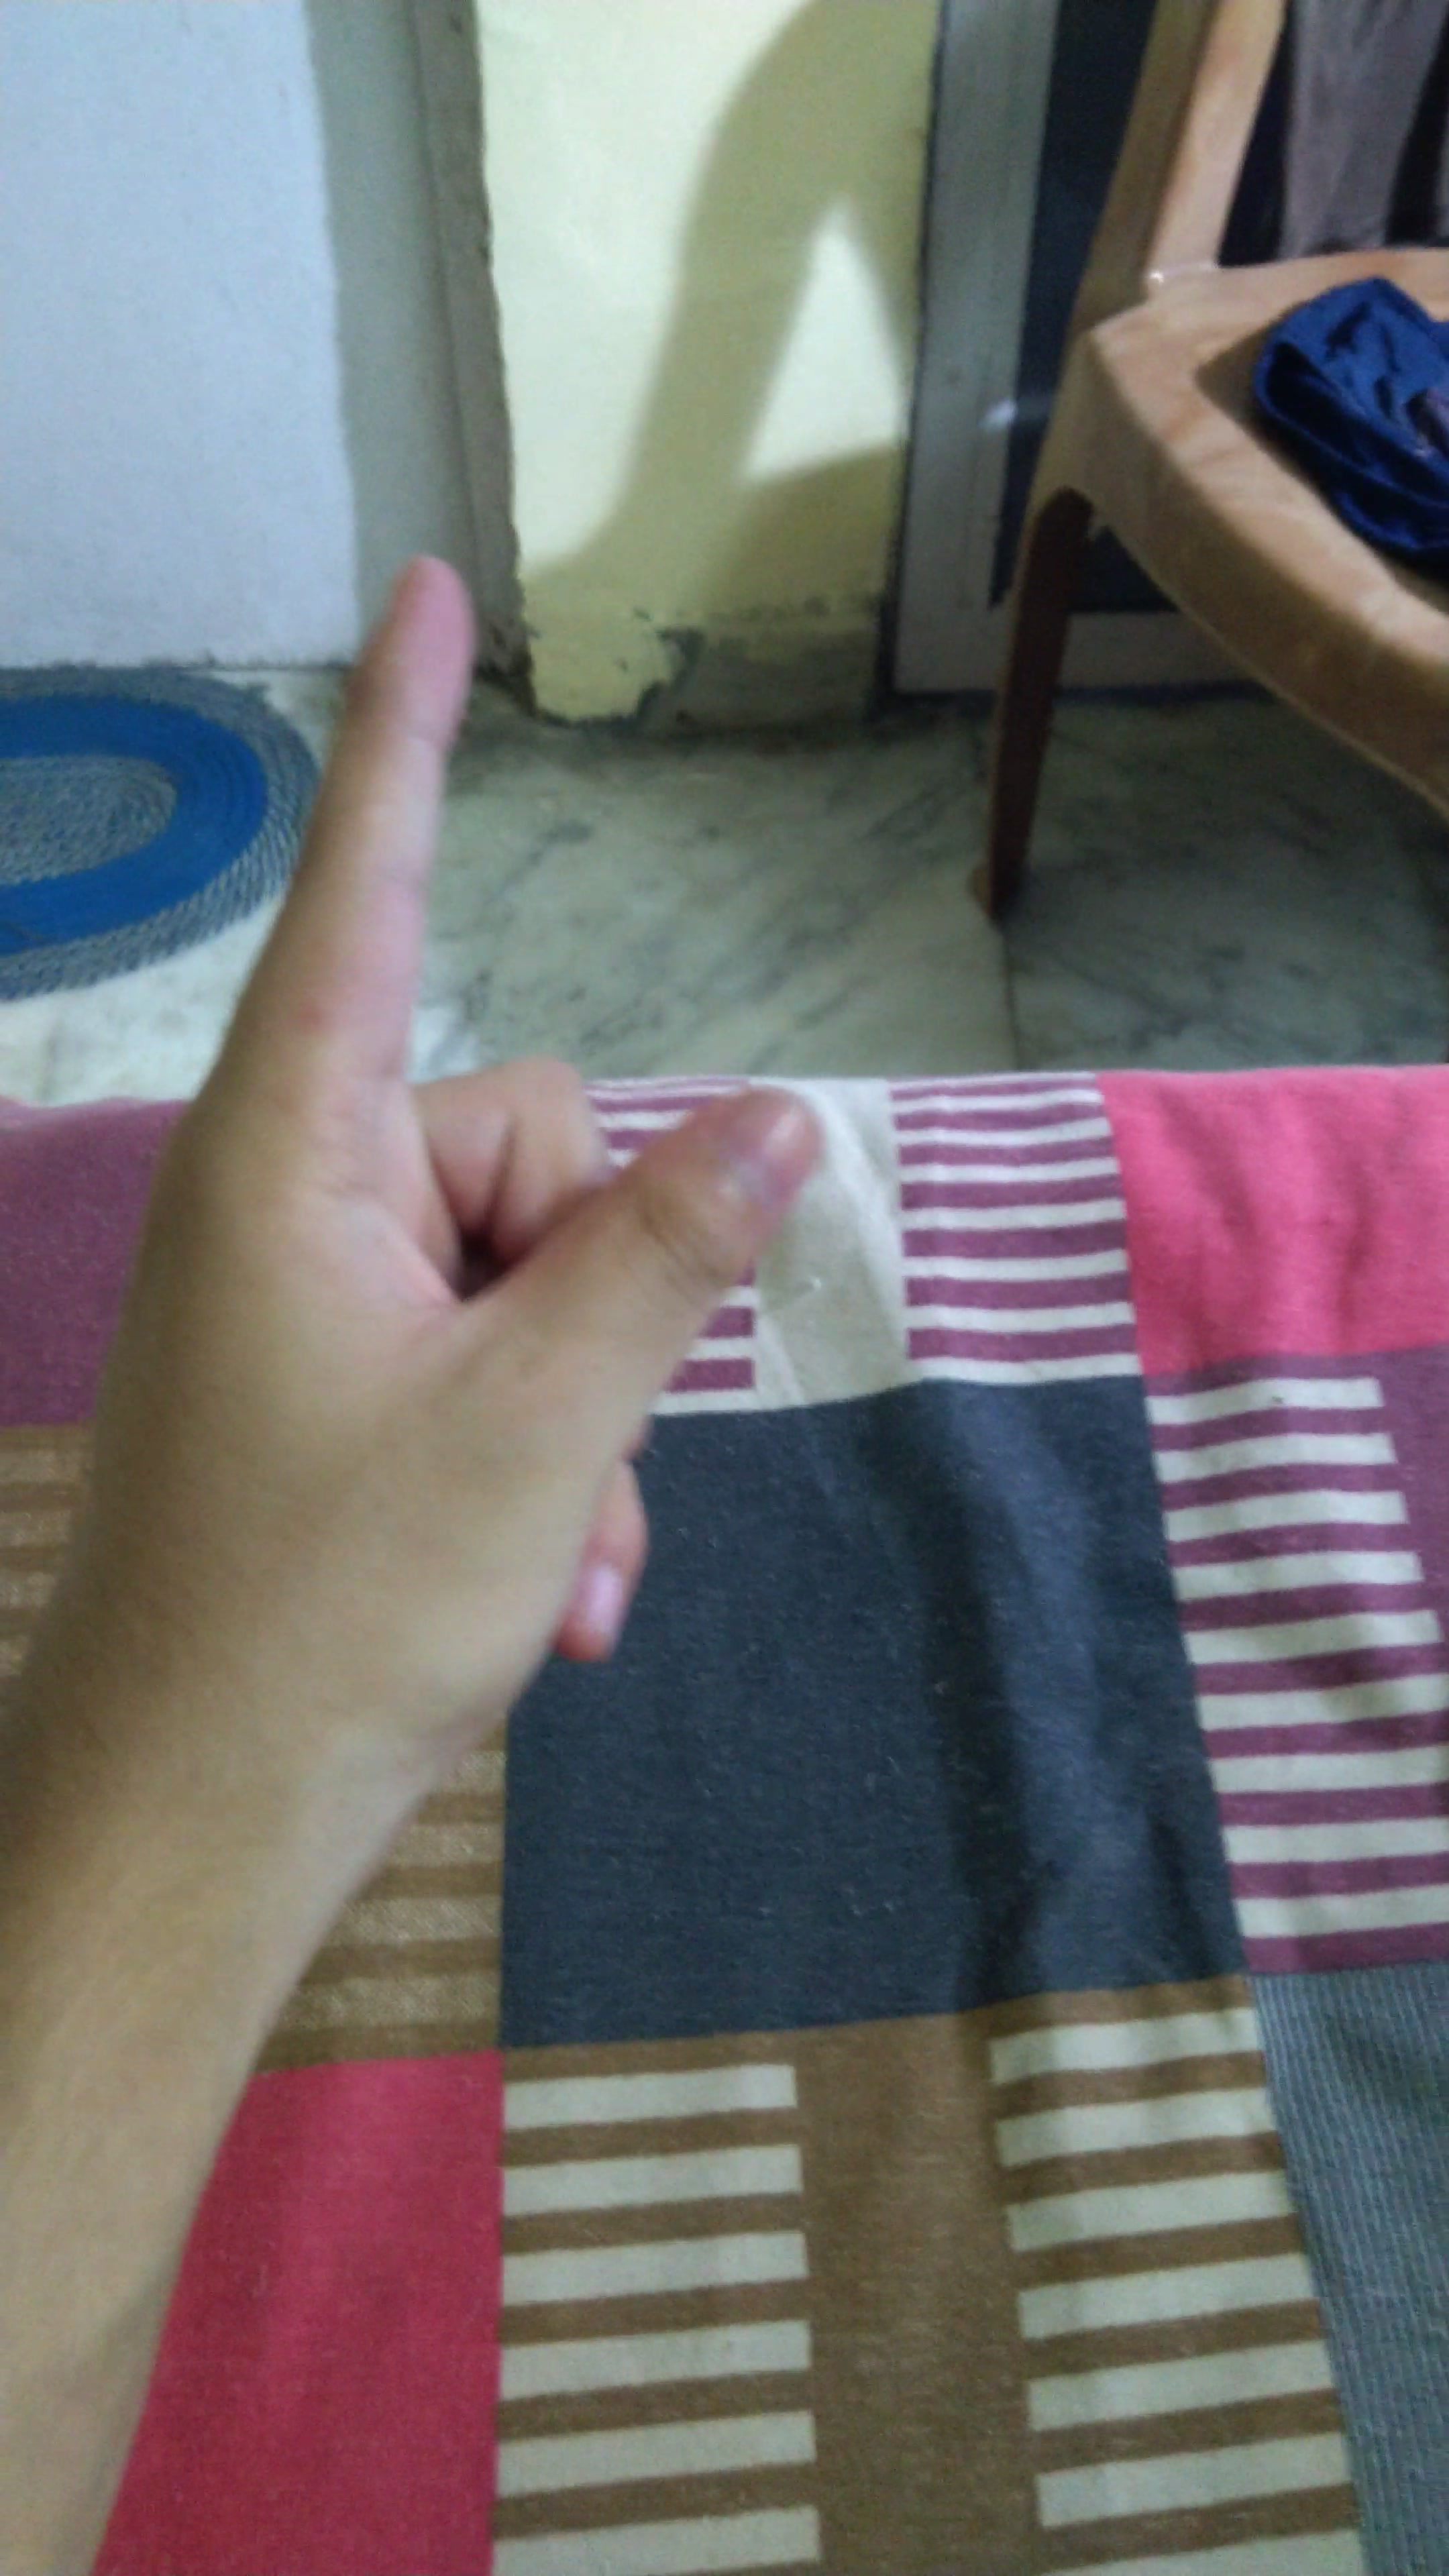hand: (35, 527, 899, 1897)
